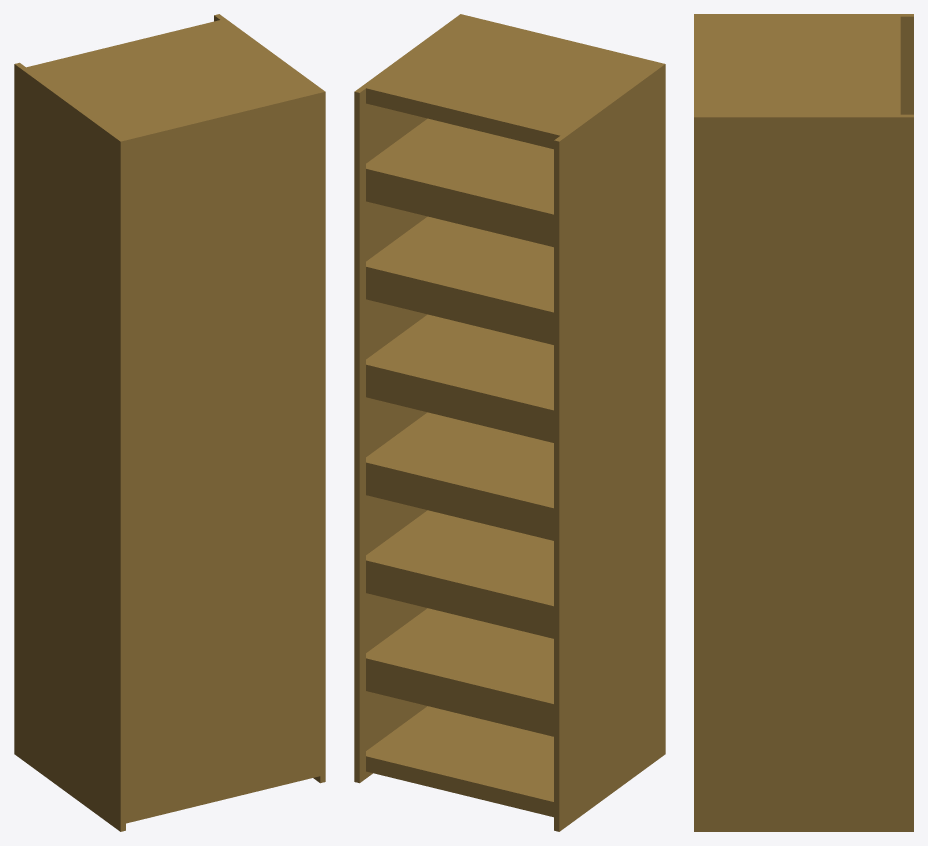
File: armario_pia.obj
3 renders of one model, left to right at view 1: azimuth 30°, elevation 25°; view 2: azimuth 150°, elevation 25°; view 3: azimuth 270°, elevation 25°, orthographic. The views are drawn at different scales.
Visible parts, largest first — view 1: Plano; view 2: Plano; view 3: Plano.
Boxes of the visible parts, left/top/right/bottom form: Plano: left=14, top=14, right=325, bottom=831; Plano: left=354, top=14, right=665, bottom=831; Plano: left=694, top=14, right=913, bottom=831.
Size of the model in its own units: 1.31 by 4.23 by 1.18.
